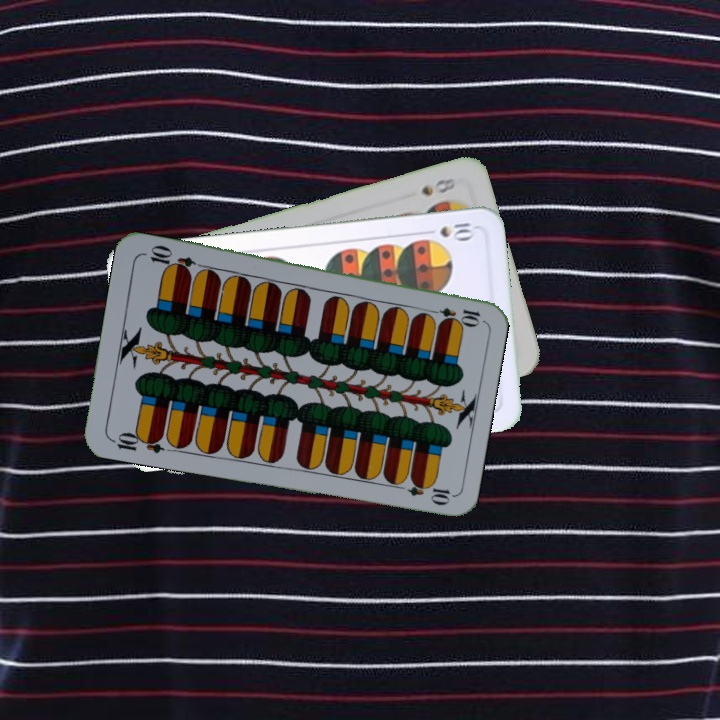E10: (107, 427, 166, 456), (424, 303, 483, 326)
S10: (435, 218, 478, 241)
S8: (417, 174, 458, 199)
